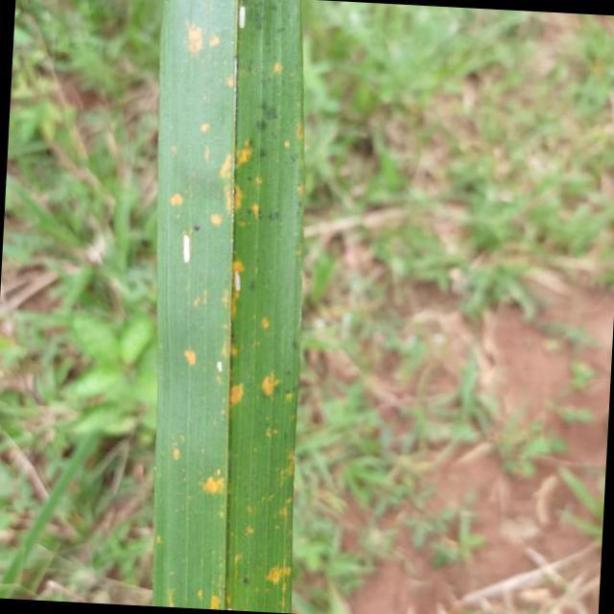Kalium: (157, 0, 305, 614)
